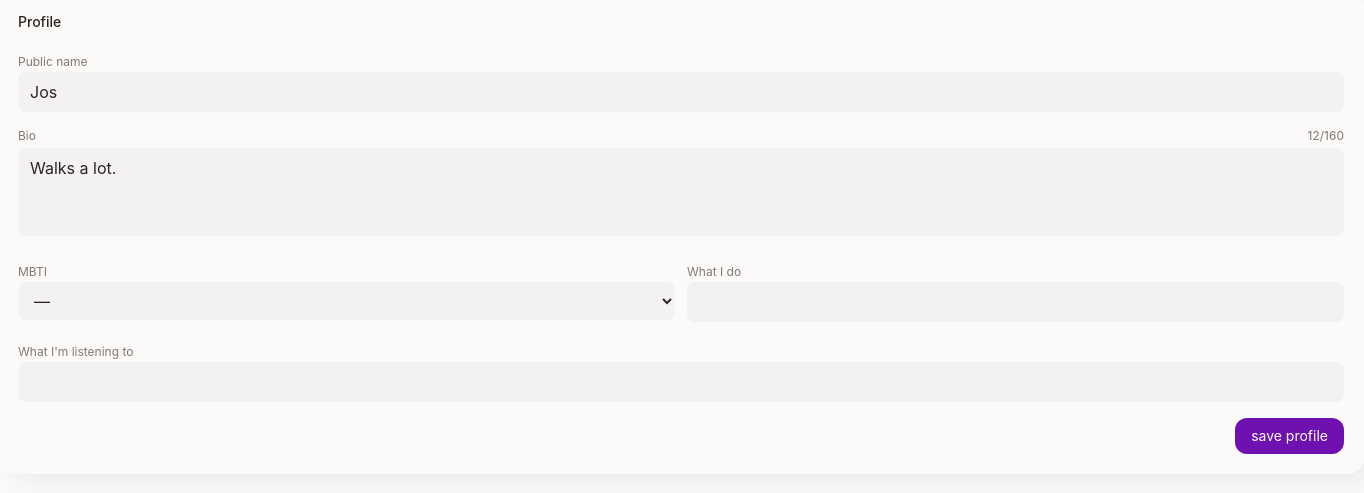
Test: EditProfileForm › saves the trimmed public name and bio, sending blanks to clear them
Clear the field labelled "Public name": (681, 92) x1=18 y1=72 x2=1344 y2=112
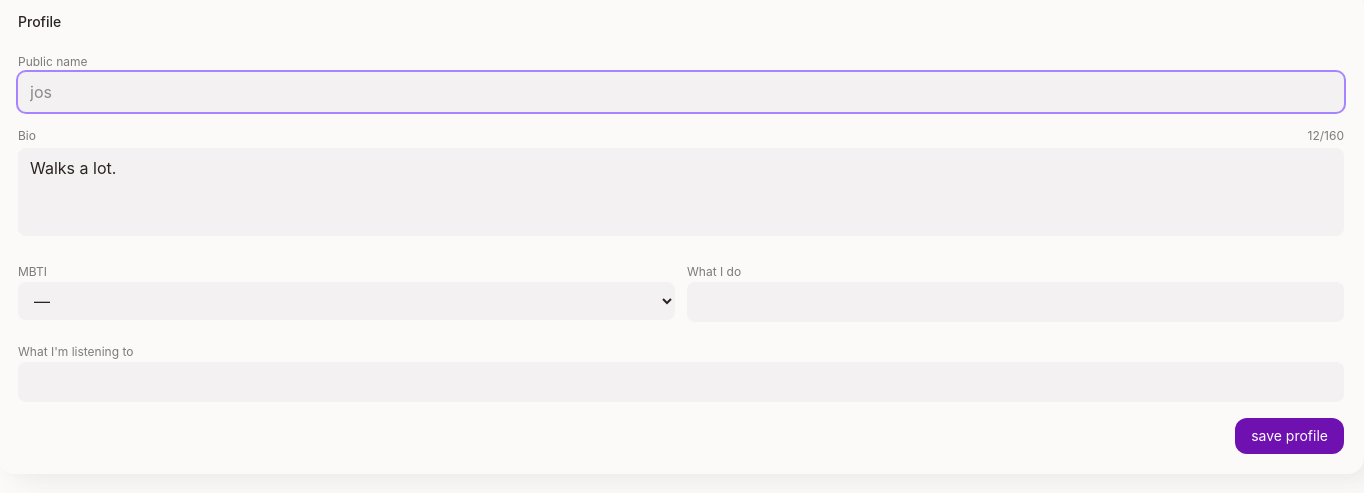
Replace the text in the text box labelled "Bio 12/160" with "  Bakes too.  ": (681, 192) x1=18 y1=148 x2=1344 y2=236
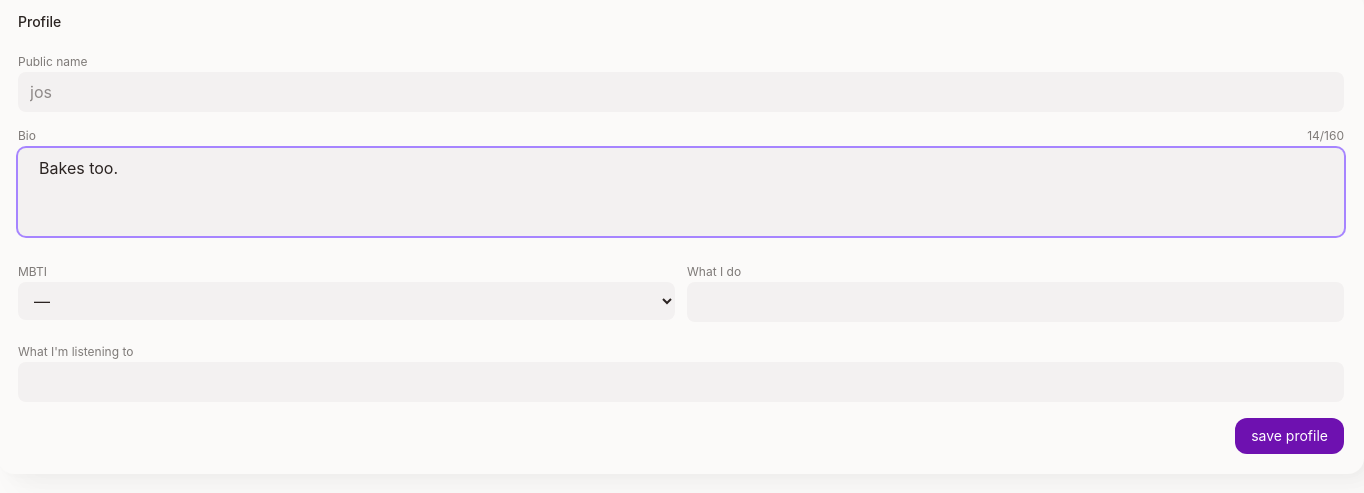
Click the button "save profile": (1290, 436) x1=1235 y1=418 x2=1344 y2=454
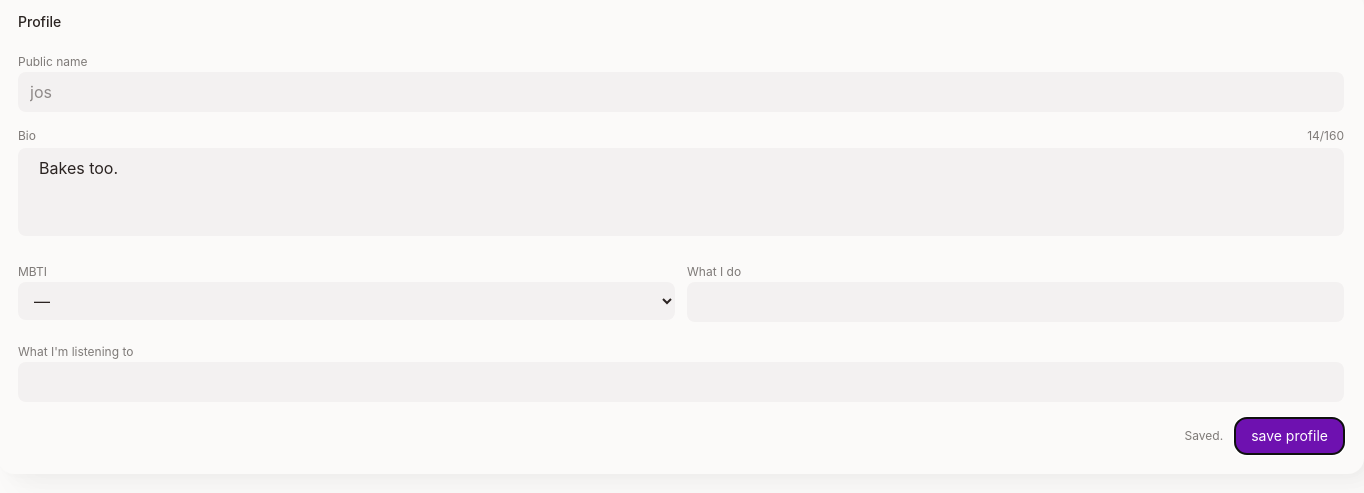
Expected: the message reads "Saved.", x1=1184 y1=428 x2=1223 y2=443
